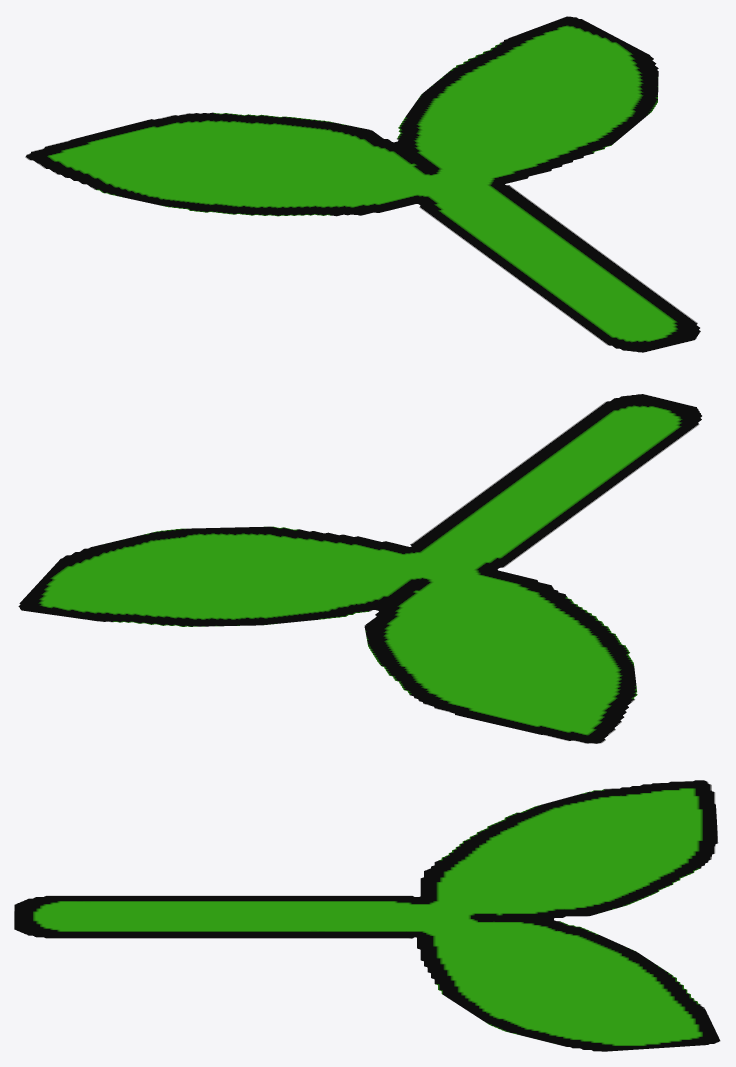
The model's file is happa.FBX.
3 views of the same model, one above another, from view 1: azimuth 30°, elevation 25°; view 2: azimuth 150°, elevation 25°; view 3: azimuth 270°, elevation 25° (orthographic). The views are drawn at different scales.
Parts seen in each view (by area): view 1: Plane001; view 2: Plane001; view 3: Plane001.
Part boxes in pixels (left/top/right/bottom): Plane001: left=25, top=16, right=700, bottom=352; Plane001: left=18, top=394, right=701, bottom=743; Plane001: left=14, top=780, right=720, bottom=1051.
Size of the model in its own units: 72.47 by 4.82e-15 by 78.77.
